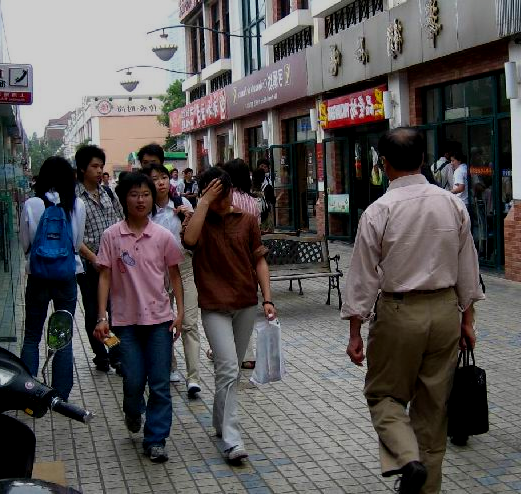pedestrian: (340, 128, 485, 492), (181, 169, 276, 462), (95, 174, 185, 464), (20, 156, 86, 402)
